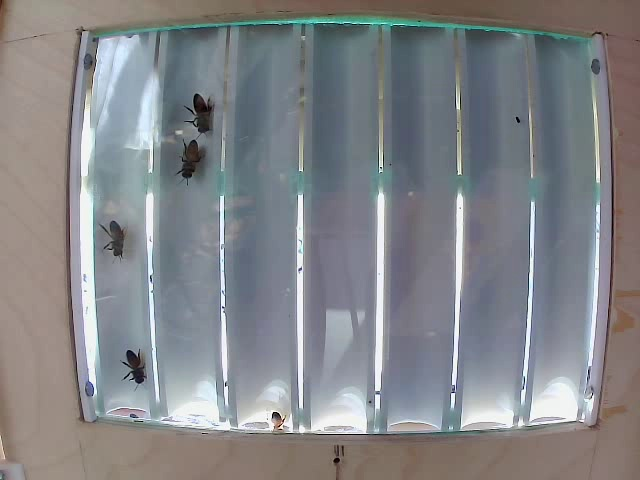bee: (106, 319, 139, 379), (181, 89, 213, 143), (166, 141, 199, 185), (106, 209, 132, 259)
